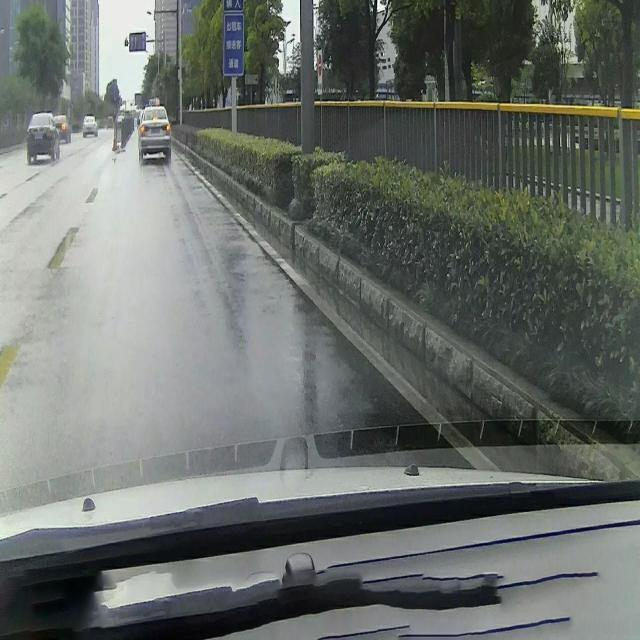car: (26, 111, 60, 160), (52, 113, 72, 141), (81, 115, 97, 138), (105, 114, 114, 130)
